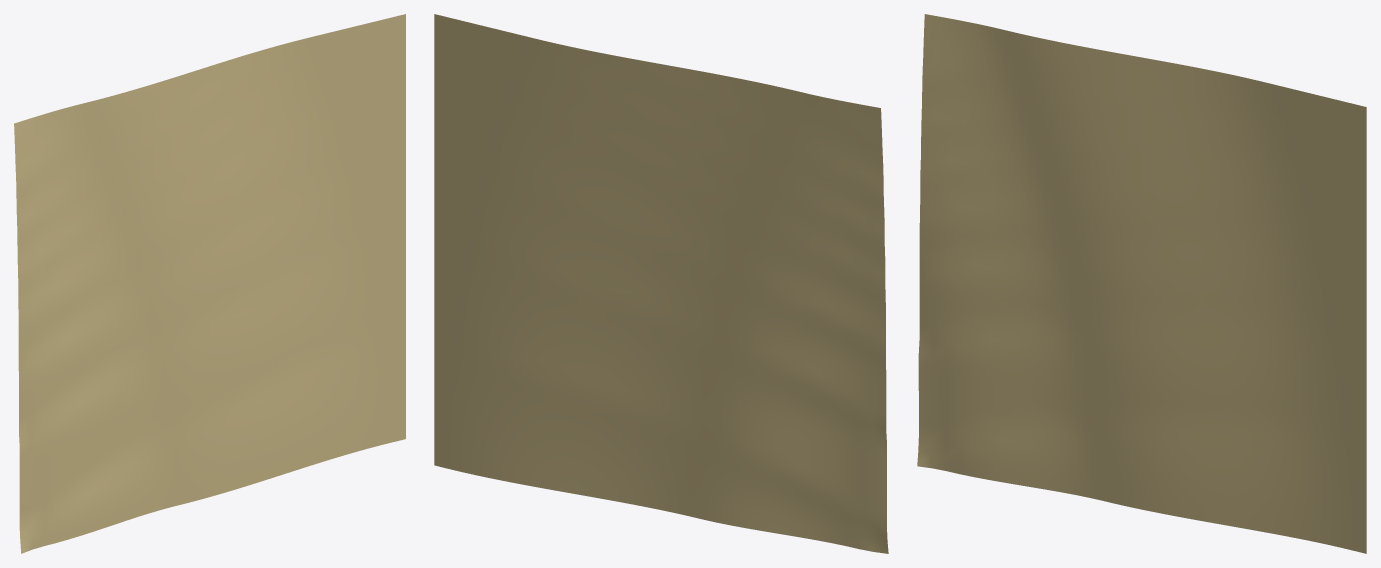
Rendered from island_terrain_27_08.obj.
3 views of the same model, side by side, from view 1: azimuth 30°, elevation 25°; view 2: azimuth 150°, elevation 25°; view 3: azimuth 330°, elevation 25° (orthographic). The views are drawn at different scales.
Visible parts, largest first — view 1: island_terrain_27_08; view 2: island_terrain_27_08; view 3: island_terrain_27_08.
Part boxes in pixels (x1,y1,x2,y2): island_terrain_27_08: (14,14,405,553); island_terrain_27_08: (434,14,888,553); island_terrain_27_08: (917,14,1366,553).
Bounding box in the file's own units: 256 × 256 × 23.48.
